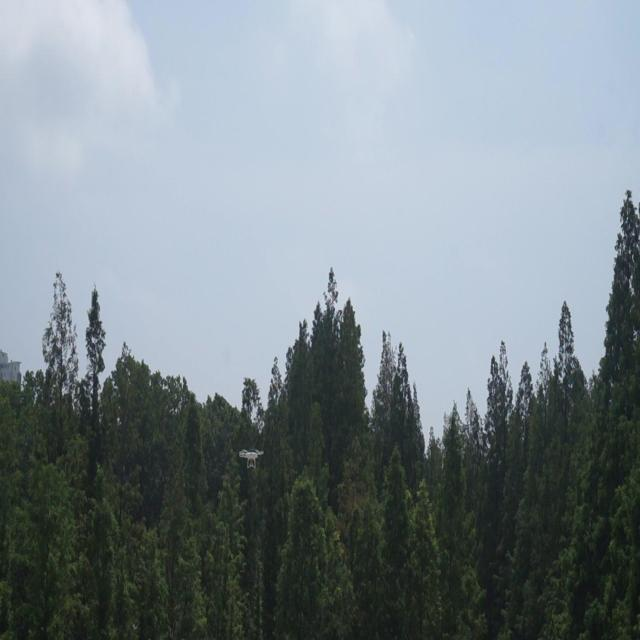drone: (235, 446, 267, 473)
